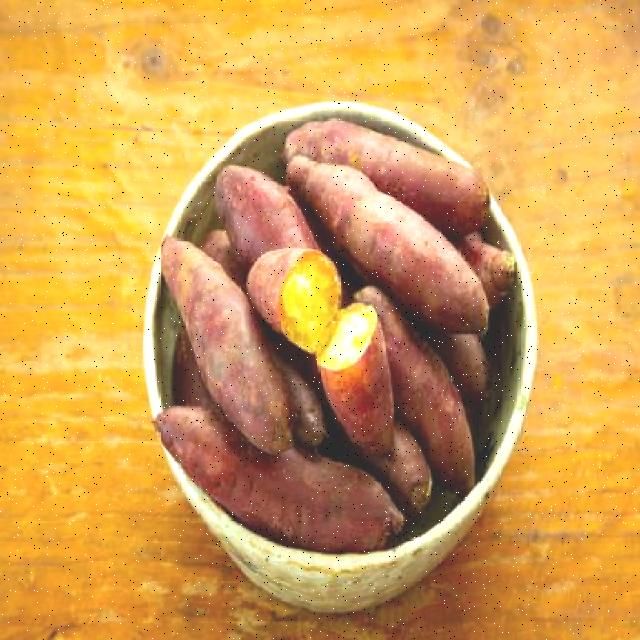Sweet Potato: (132, 216, 298, 470)
